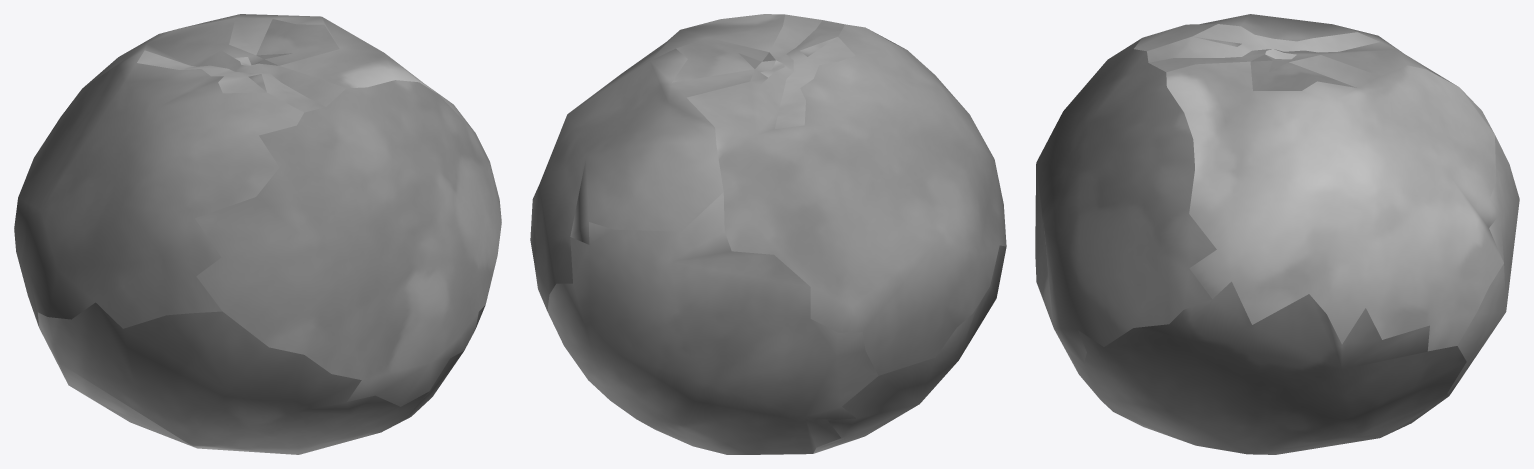
Rendered from SM_Orange_01b.fbx.
3 renders of one model, left to right at view 1: azimuth 30°, elevation 25°; view 2: azimuth 150°, elevation 25°; view 3: azimuth 270°, elevation 25°, orthographic. The views are drawn at different scales.
Parts seen in each view (by area): view 1: SM_Orange_01b_LOD0; view 2: SM_Orange_01b_LOD0; view 3: SM_Orange_01b_LOD0.
Boxes of the visible parts, left/top/right/bottom form: SM_Orange_01b_LOD0: left=14, top=14, right=501, bottom=454; SM_Orange_01b_LOD0: left=530, top=14, right=1006, bottom=454; SM_Orange_01b_LOD0: left=1035, top=14, right=1519, bottom=454.
Size of the model in its own units: 10.79 by 10.72 by 8.8.
